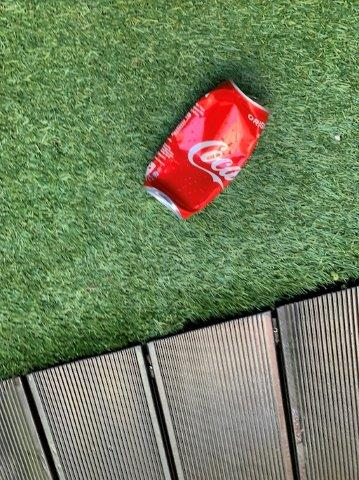kaleng: (145, 81, 268, 218)
